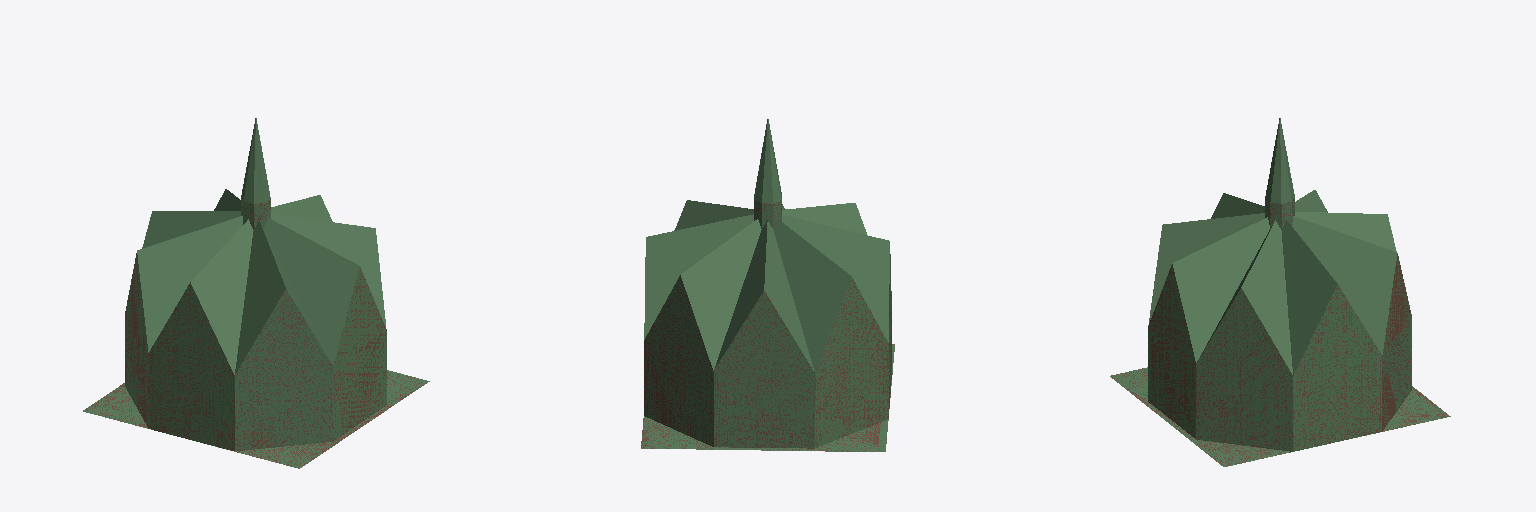
Rendered from tourMitre.obj.
The picture shows the model from 3 angles: view 1: azimuth 30°, elevation 25°; view 2: azimuth 150°, elevation 25°; view 3: azimuth 270°, elevation 25°; orthographic projection.
Parts seen in each view (by area): view 1: Mesh1 Tour_Mitre Model; view 2: Mesh1 Tour_Mitre Model; view 3: Mesh1 Tour_Mitre Model.
Part boxes in pixels (left/top/right/bottom): Mesh1 Tour_Mitre Model: left=83, top=118, right=429, bottom=468; Mesh1 Tour_Mitre Model: left=641, top=119, right=894, bottom=451; Mesh1 Tour_Mitre Model: left=1110, top=118, right=1450, bottom=466.
Bounding box in the file's own units: 22.35 × 20.55 × 22.67.